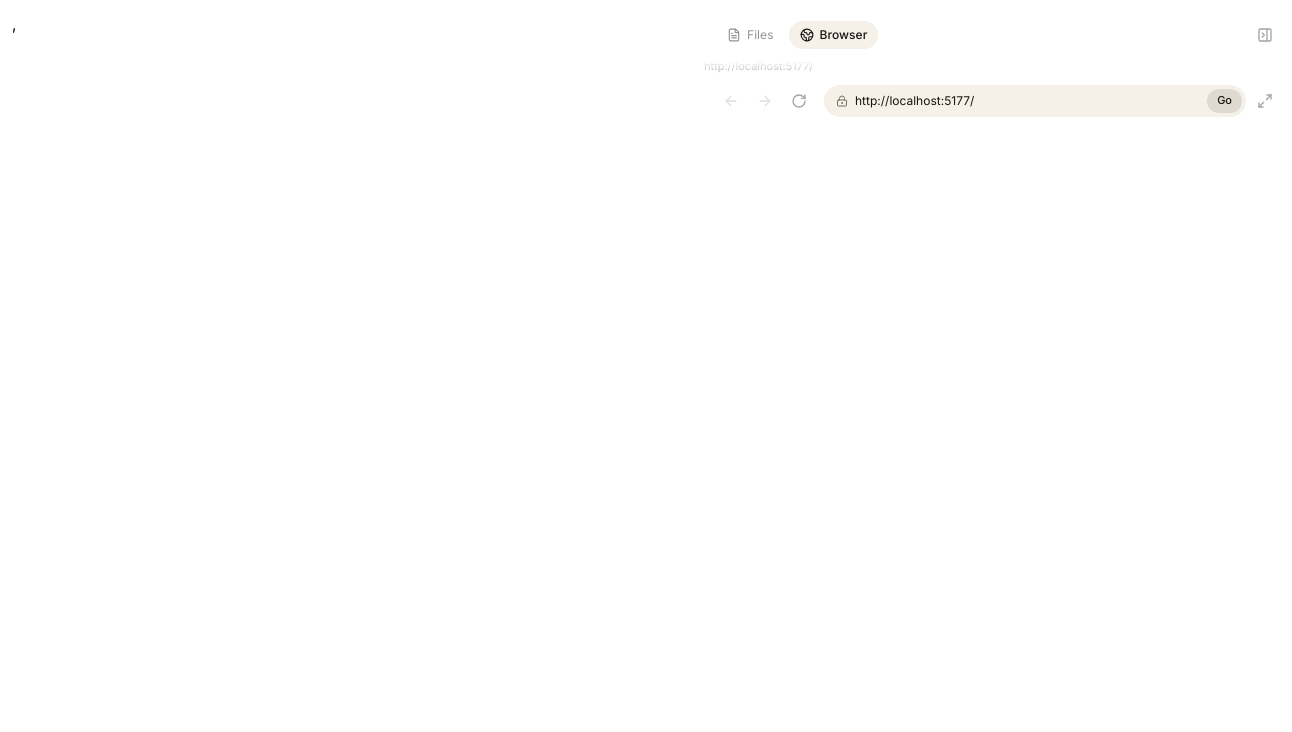
Test: the preview's full-screen toggle › spreads the page over the window and hands back the unzoom arrow
Step 1. Click the button named "Full screen preview" → (1265, 100), box [1250,86,1280,116]
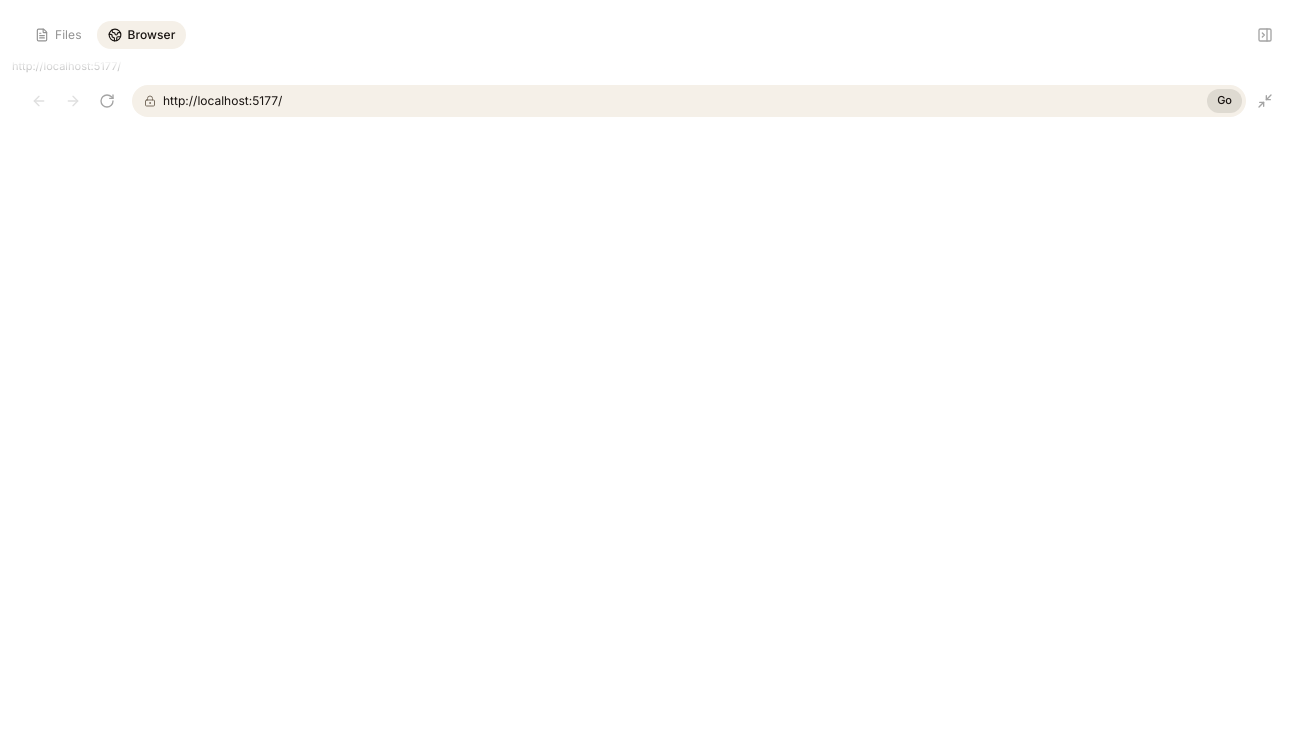
Now the element with class "browser-dock" has attribute data-zoomed="true"
Step 2. Press Escape
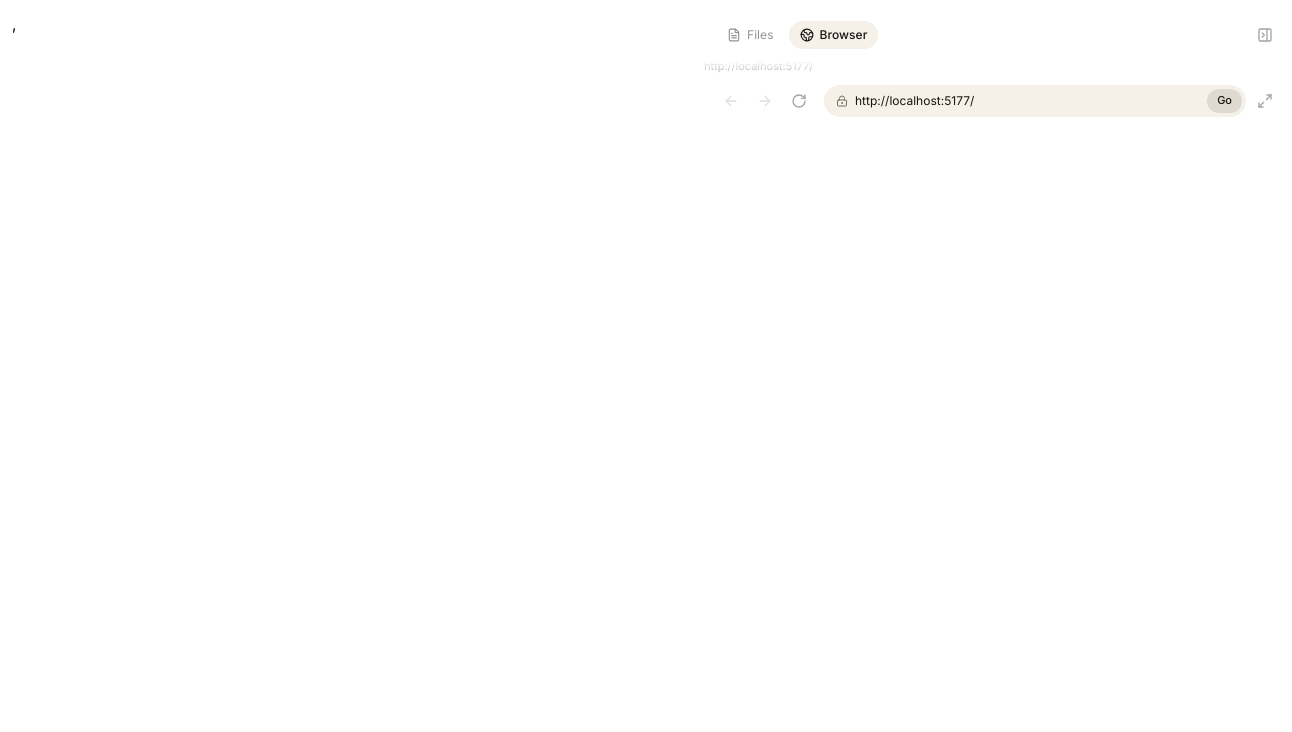
Now the element with class "browser-dock" has attribute data-zoomed="false", box [703,12,1291,731]
Step 3. Click the button named "Exit full screen preview" → (1265, 100), box [1250,86,1280,116]
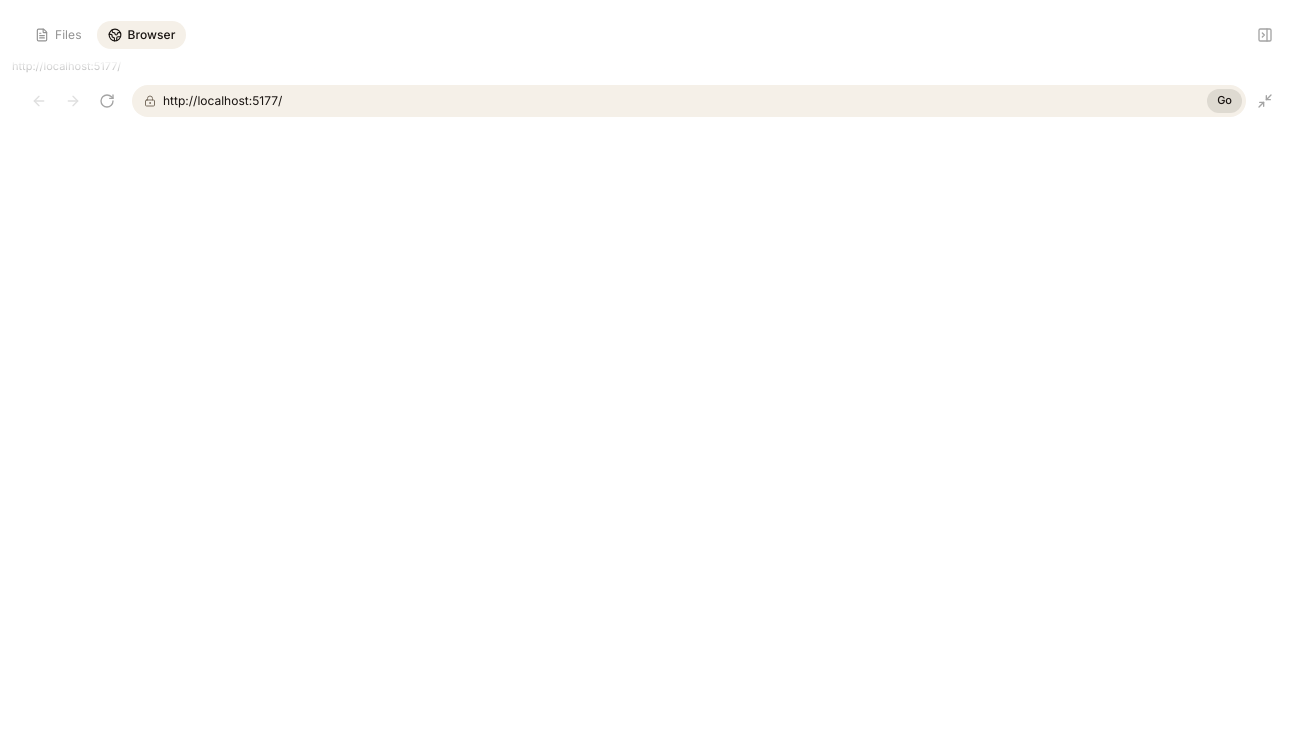
Now the element with class "browser-dock" has attribute data-zoomed="true"
